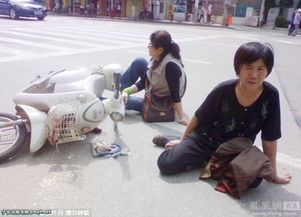falling: (146, 33, 290, 185)
